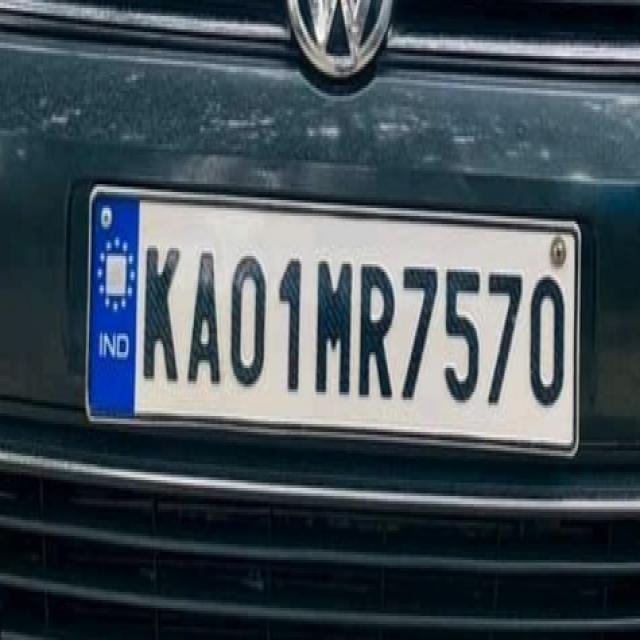0: (226, 242, 268, 391), (528, 262, 568, 410)
1: (274, 244, 302, 399)
5: (441, 260, 483, 408)
7: (399, 257, 439, 407), (486, 258, 524, 411)
A: (185, 238, 222, 394)
K: (142, 237, 184, 390)
M: (312, 245, 354, 406)
R: (357, 247, 396, 413)
